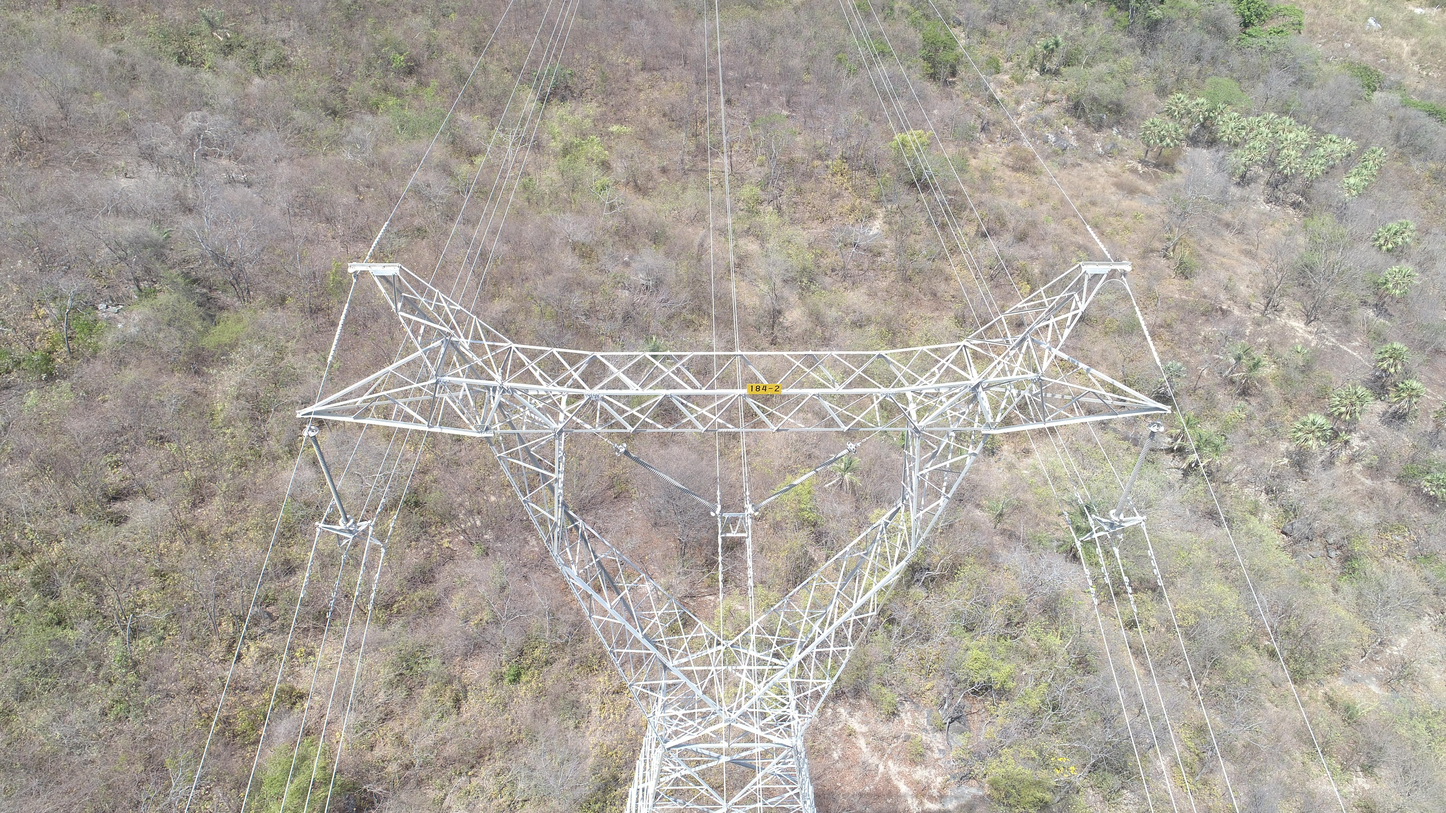power_tower: (293, 260, 1176, 811)
